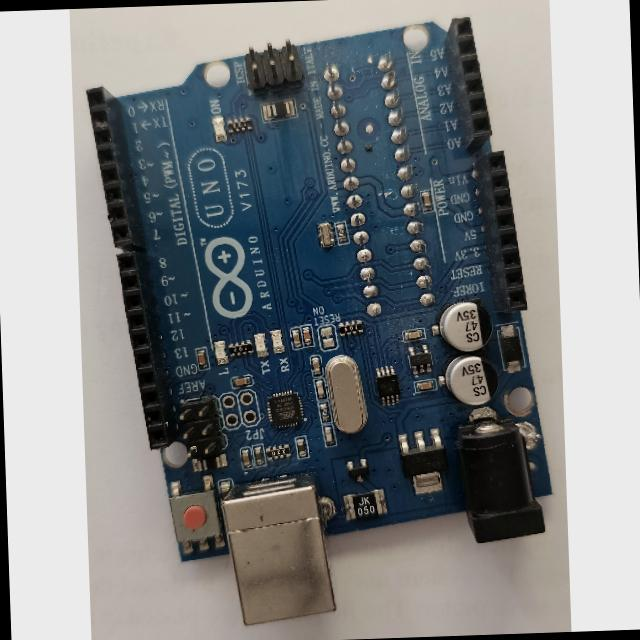missing_atmega: (314, 47, 446, 324)
